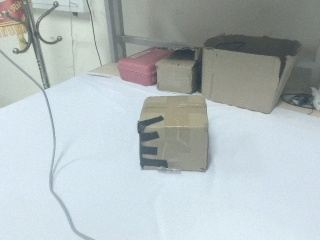box: (201, 33, 300, 115), (138, 94, 210, 173), (155, 47, 204, 95), (117, 40, 163, 88)
